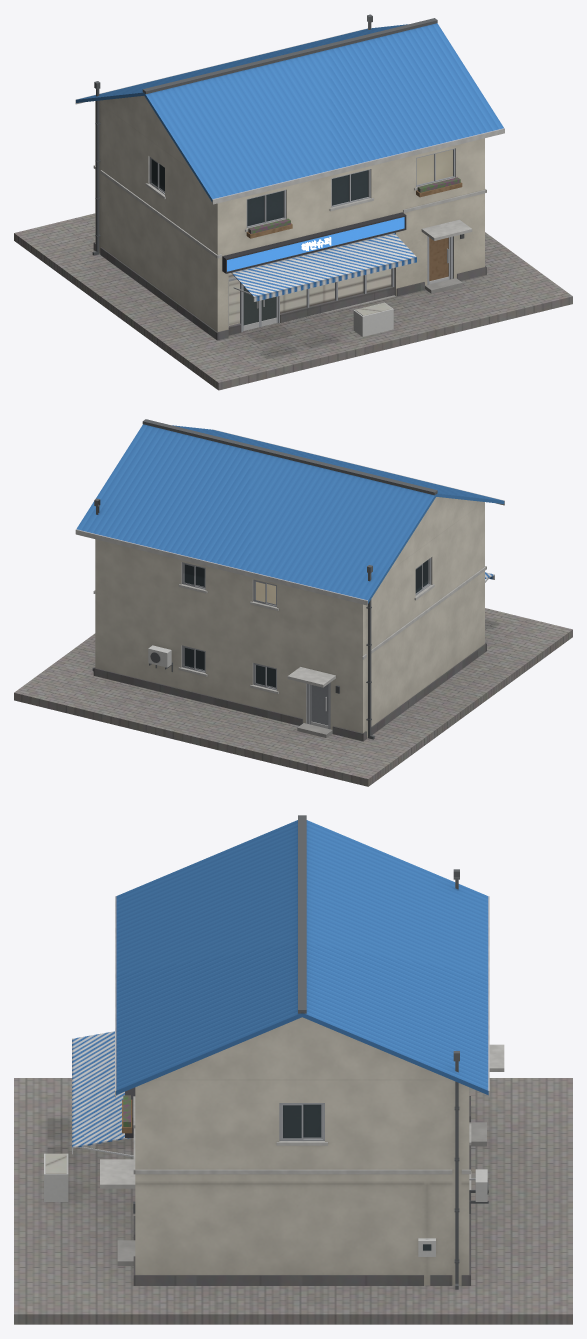
The model's file is IlsanBlueRoof01_LOD1.fbx.
3 views of the same model, one above another, from view 1: azimuth 30°, elevation 25°; view 2: azimuth 150°, elevation 25°; view 3: azimuth 270°, elevation 25° (orthographic). The views are drawn at different scales.
Parts seen in each view (by area): view 1: IlsanBlueRoof01_LOD1; view 2: IlsanBlueRoof01_LOD1; view 3: IlsanBlueRoof01_LOD1.
Boxes of the visible parts, bbox=[...] form: IlsanBlueRoof01_LOD1: bbox=[14, 14, 572, 390]; IlsanBlueRoof01_LOD1: bbox=[14, 419, 572, 786]; IlsanBlueRoof01_LOD1: bbox=[14, 815, 572, 1324].
Size of the model in its own units: 15.9 by 9.23 by 15.9.
1 material, 1 textured.
